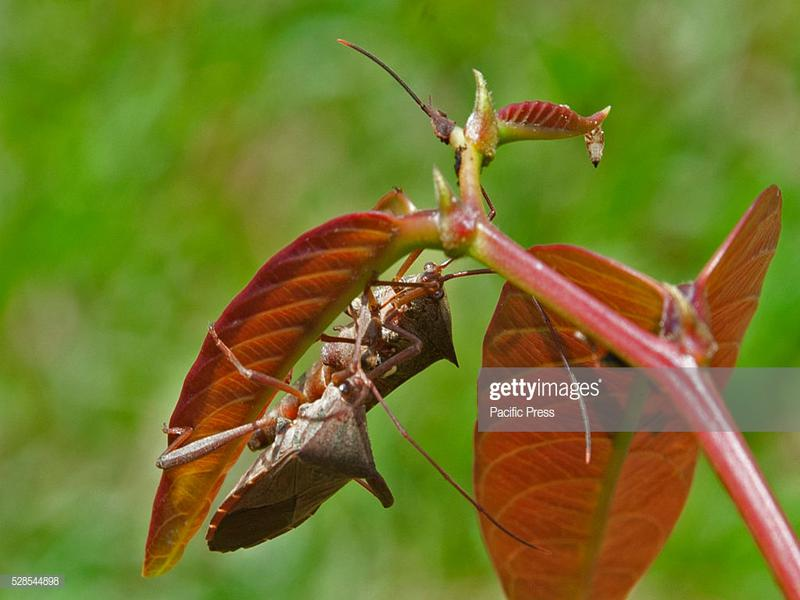Rice_earhead_bug: (186, 260, 464, 570), (429, 41, 627, 223)
